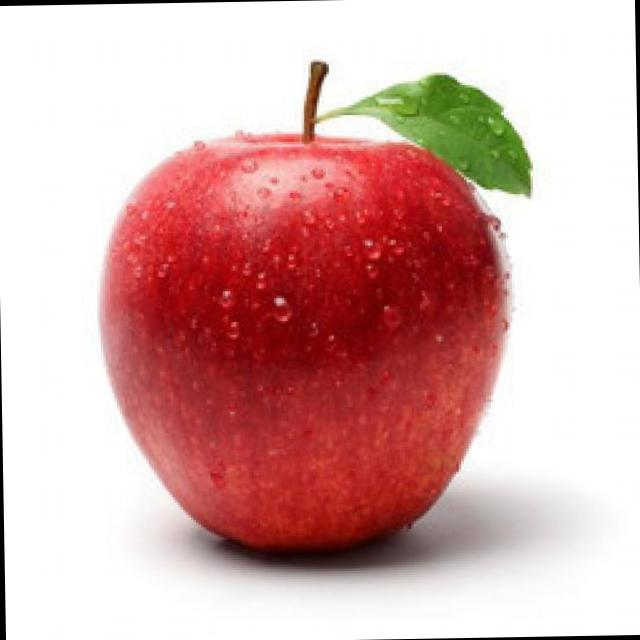apple: (89, 127, 526, 569)
